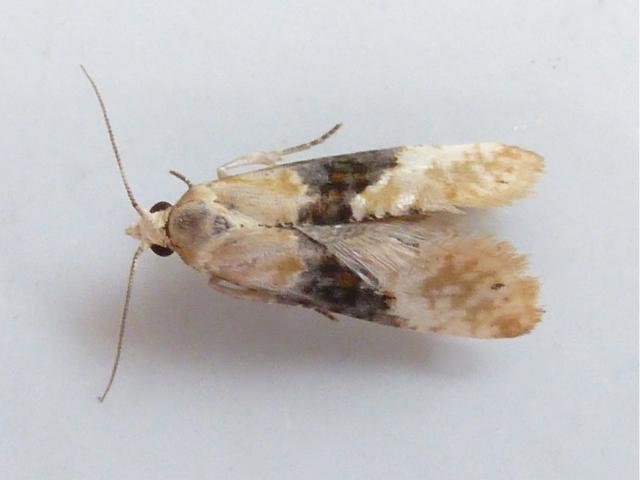Eupoecilia Ambiguella: (71, 59, 550, 404)
